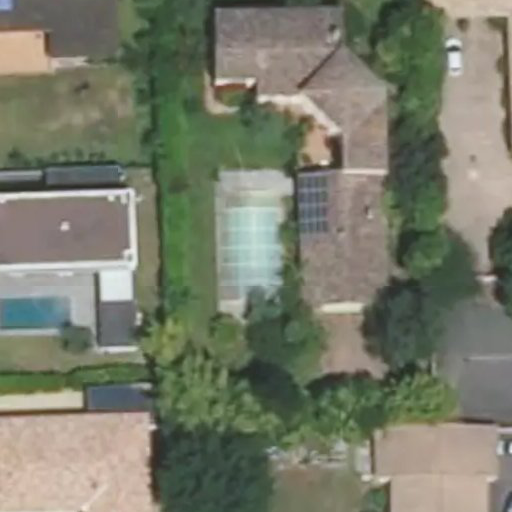pool: (231, 191, 280, 292)
